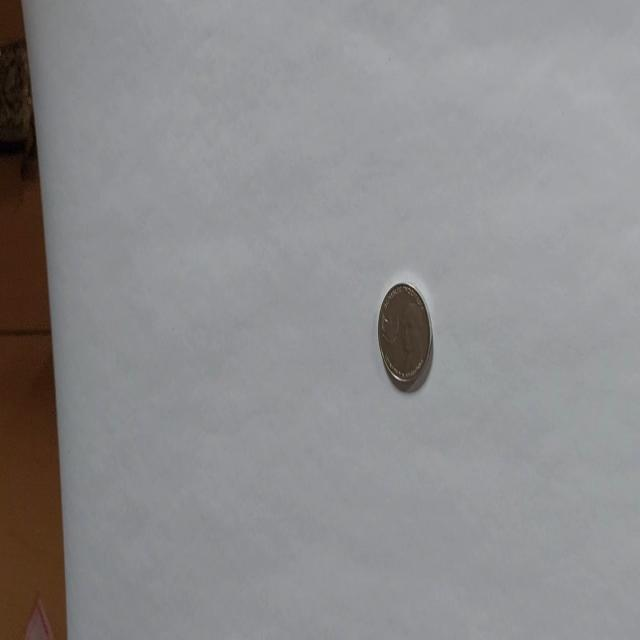lima ratus rupiah: (376, 280, 434, 391)
